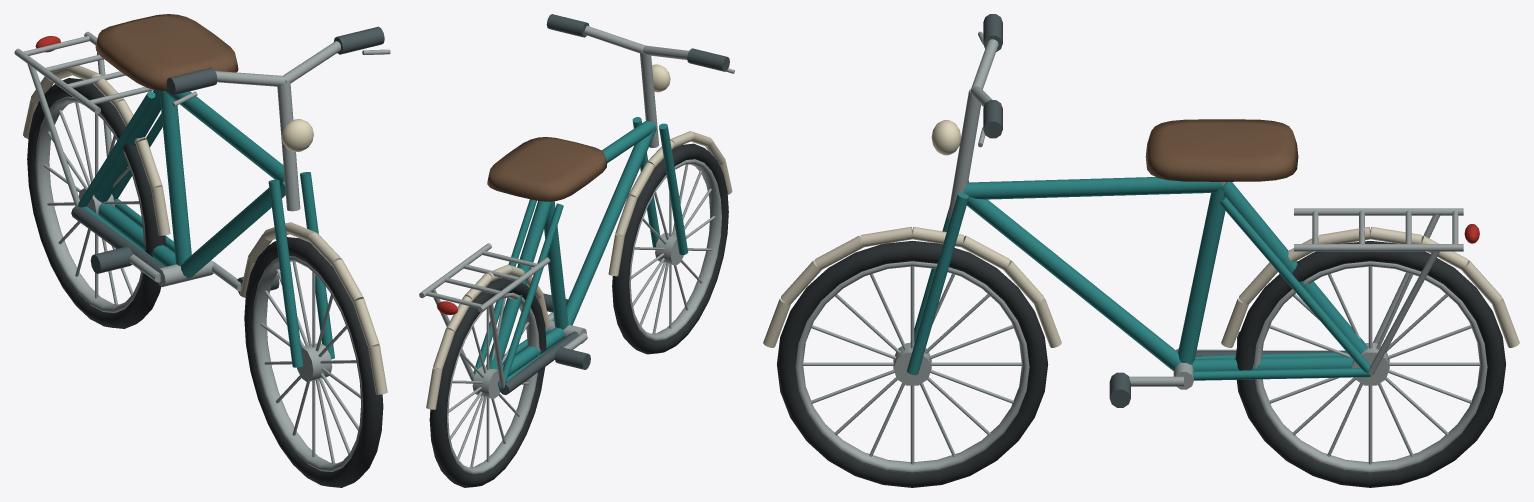
Rendered from bicycle.glb.
The picture shows the model from 3 angles, left to right: view 1: azimuth 30°, elevation 25°; view 2: azimuth 150°, elevation 25°; view 3: azimuth 270°, elevation 25°; orthographic projection. The views are drawn at different scales.
Visible parts, largest first — view 1: bicycle:frame:LOD0, bicycle:pivot.wheel.front:LOD0, bicycle:steering:LOD0, bicycle:pivot.wheel.rear:LOD0, bicycle:crank:LOD0; view 2: bicycle:frame:LOD0, bicycle:pivot.wheel.front:LOD0, bicycle:pivot.wheel.rear:LOD0, bicycle:steering:LOD0, bicycle:crank:LOD0; view 3: bicycle:frame:LOD0, bicycle:pivot.wheel.front:LOD0, bicycle:pivot.wheel.rear:LOD0, bicycle:steering:LOD0, bicycle:crank:LOD0.
Boxes of the visible parts, x1=… form: bicycle:frame:LOD0: x1=14, y1=14, x2=285, y2=278; bicycle:pivot.wheel.front:LOD0: x1=244, y1=237, x2=383, y2=487; bicycle:steering:LOD0: x1=166, y1=26, x2=390, y2=394; bicycle:pivot.wheel.rear:LOD0: x1=27, y1=78, x2=165, y2=328; bicycle:crank:LOD0: x1=90, y1=246, x2=279, y2=296; bicycle:frame:LOD0: x1=419, y1=120, x2=656, y2=409; bicycle:pivot.wheel.front:LOD0: x1=612, y1=143, x2=728, y2=354; bicycle:pivot.wheel.rear:LOD0: x1=429, y1=278, x2=546, y2=487; bicycle:steering:LOD0: x1=546, y1=14, x2=734, y2=276; bicycle:crank:LOD0: x1=543, y1=293, x2=590, y2=369; bicycle:frame:LOD0: x1=963, y1=119, x2=1519, y2=380; bicycle:pivot.wheel.front:LOD0: x1=777, y1=241, x2=1048, y2=487; bicycle:pivot.wheel.rear:LOD0: x1=1235, y1=241, x2=1505, y2=487; bicycle:steering:LOD0: x1=763, y1=14, x2=1061, y2=375; bicycle:crank:LOD0: x1=1109, y1=331, x2=1240, y2=407.
Size of what is drawn, in the model's own units: 0.6224 by 1.09 by 1.78.
